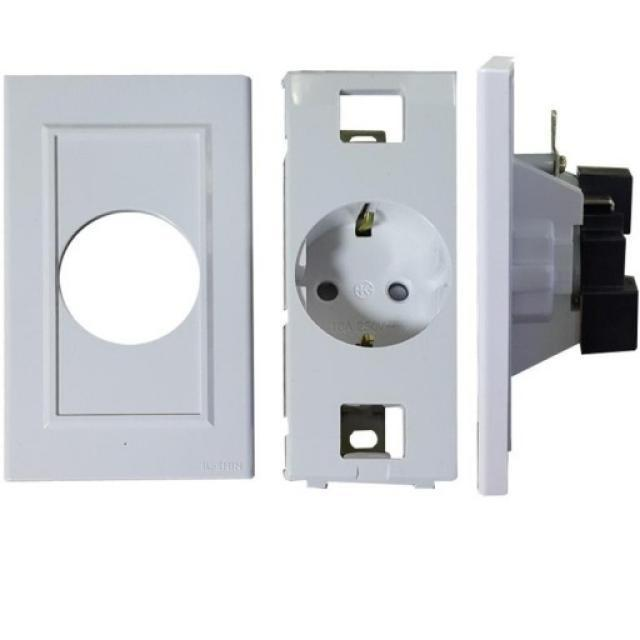typeb: (261, 55, 475, 569)
